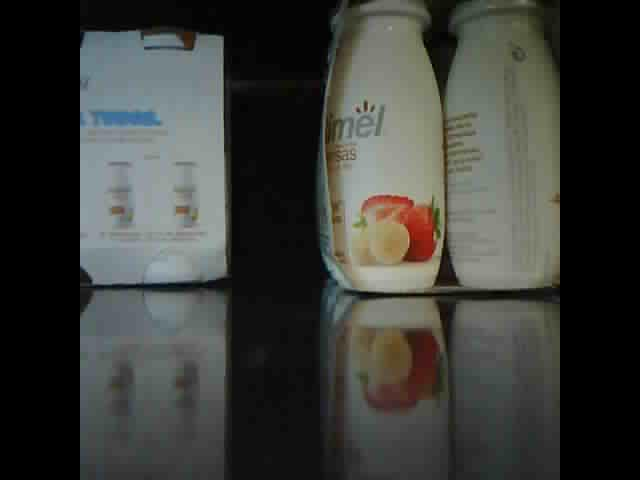actimel: (313, 1, 559, 296), (80, 25, 230, 288)
